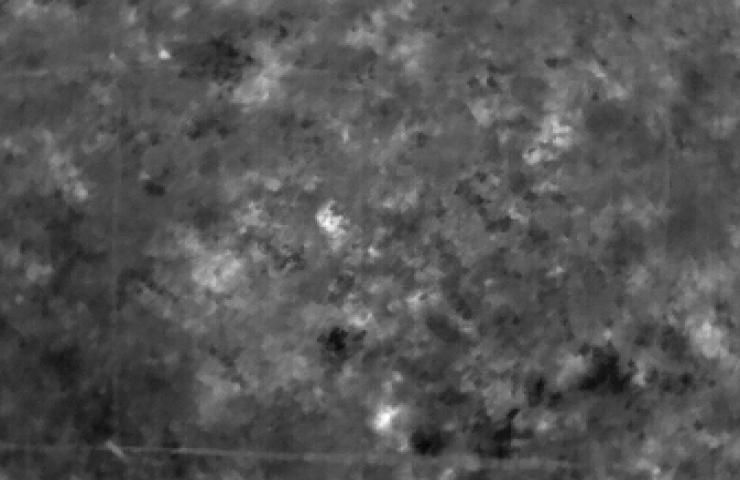landmines: (316, 197, 350, 236)
